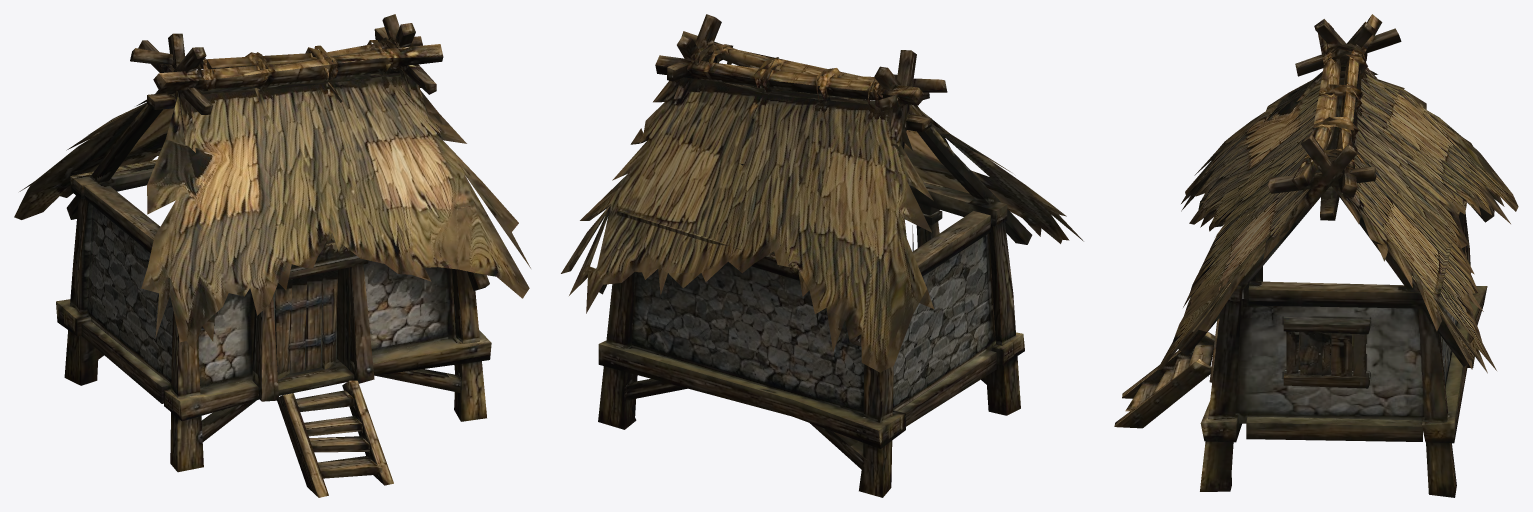
The model's file is act1_kit_v1_stilt_cottage.glb.
The picture shows the model from 3 angles, left to right: view 1: azimuth 30°, elevation 25°; view 2: azimuth 150°, elevation 25°; view 3: azimuth 270°, elevation 25°; orthographic projection. The views are drawn at different scales.
Parts seen in each view (by area): view 1: A01_1_stilt_cottage; view 2: A01_1_stilt_cottage; view 3: A01_1_stilt_cottage.
Part boxes in pixels (<box>): A01_1_stilt_cottage: <box>14,14,530,497</box>; A01_1_stilt_cottage: <box>561,14,1083,497</box>; A01_1_stilt_cottage: <box>1114,14,1518,497</box>.
Bounding box in the file's own units: 0.9982 × 0.9601 × 0.9627.
1 material, 1 textured.
